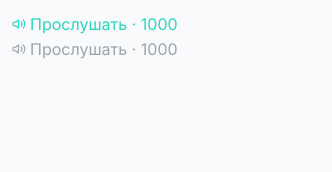
Test: плеер ответа › вернулся к ответу, пока он ещё озвучивается, — ждём тот же запрос, второго не шлём
The width and height of the screenshot is (332, 172).
Later steps or results of the test are not shown.
Step 1. Click the 1st button "Прослушать · 1000" → click(95, 24), box [12,12,178,36]
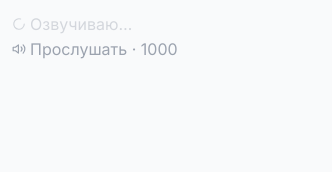
Step 2. Click the button "Прослушать · 1000" → click(95, 49), box [12,37,178,61]
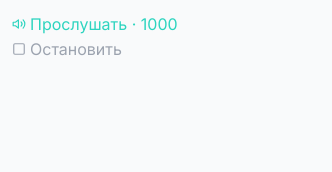
Step 3. Click the button "Прослушать · 1000" → click(95, 24), box [12,12,178,36]
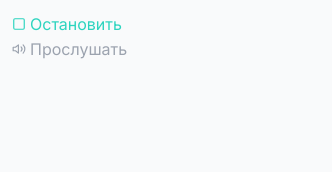
Check: the button "Остановить" is shown, box [12,12,122,36]
